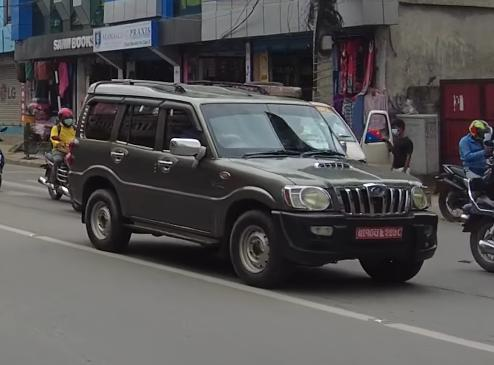SUV: (65, 68, 440, 293)
